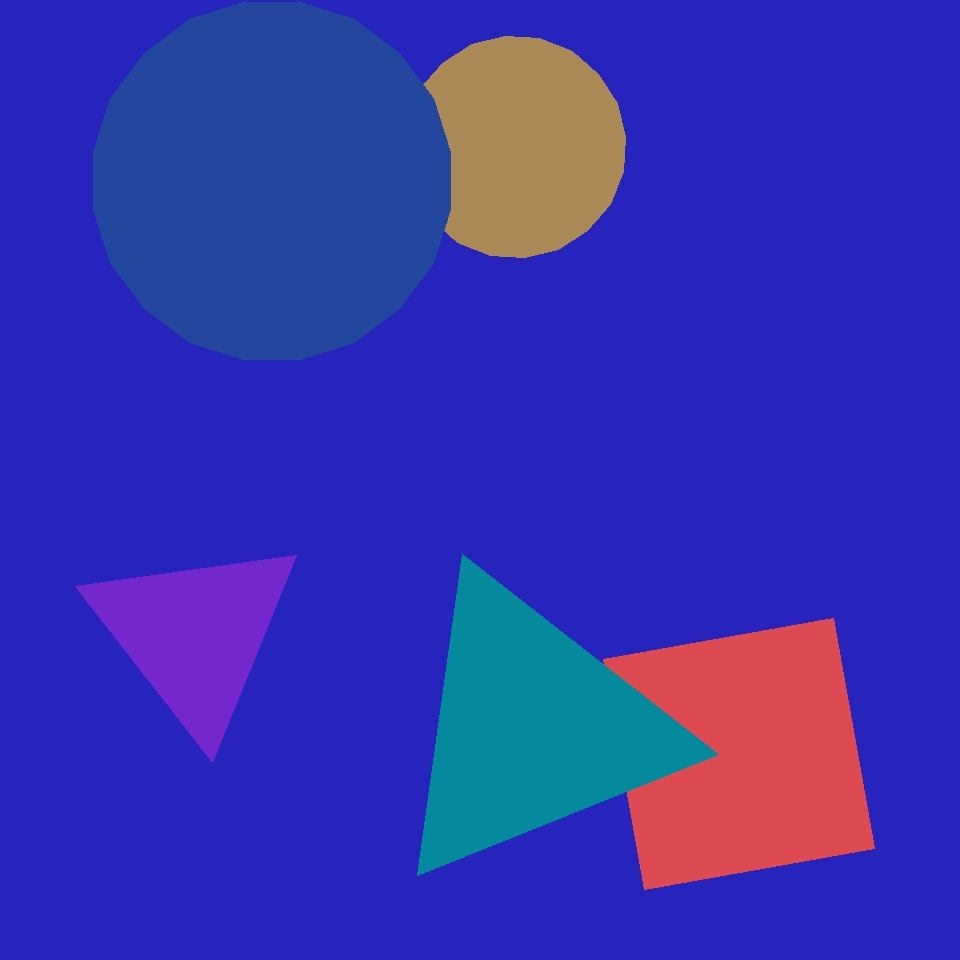circle: (382, 567, 684, 888), (225, 398, 474, 673), (84, 532, 306, 738)
square: (489, 602, 790, 903), (604, 618, 874, 890), (164, 439, 350, 625)
triangle: (93, 2, 450, 360), (132, 585, 395, 848), (404, 37, 626, 258), (610, 139, 830, 360), (456, 477, 577, 598)
